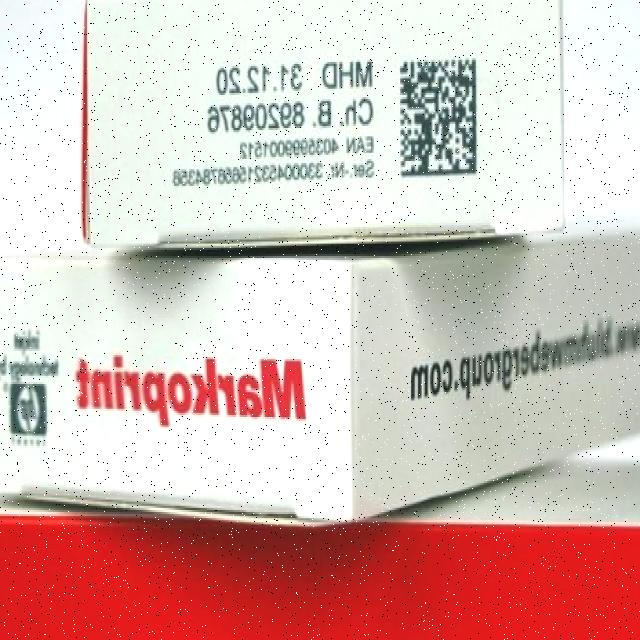datamatrix: (396, 47, 483, 186)
